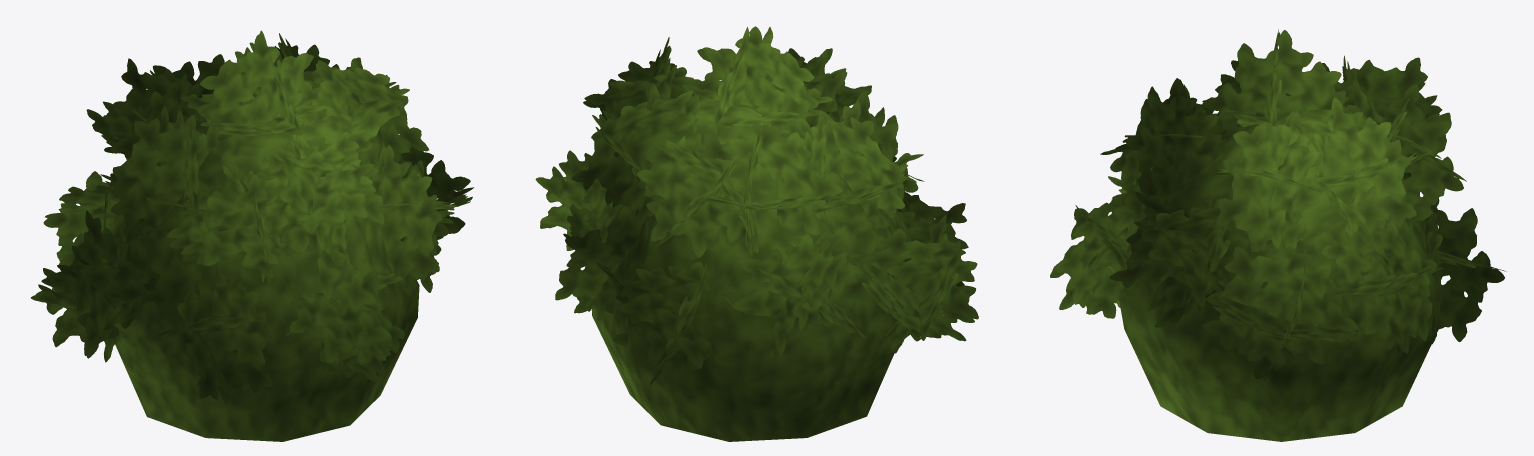
Rendered from Bush.fbx.
3 renders of one model, left to right at view 1: azimuth 30°, elevation 25°; view 2: azimuth 150°, elevation 25°; view 3: azimuth 270°, elevation 25°, orthographic.
Visible parts, largest first — view 1: Bush; view 2: Bush; view 3: Bush.
Boxes of the visible parts, x1=… form: Bush: x1=31, y1=30, x2=473, y2=441; Bush: x1=535, y1=26, x2=978, y2=441; Bush: x1=1050, y1=30, x2=1505, y2=441.
Bounding box in the file's own units: 2.12 × 1.66 × 1.95.
